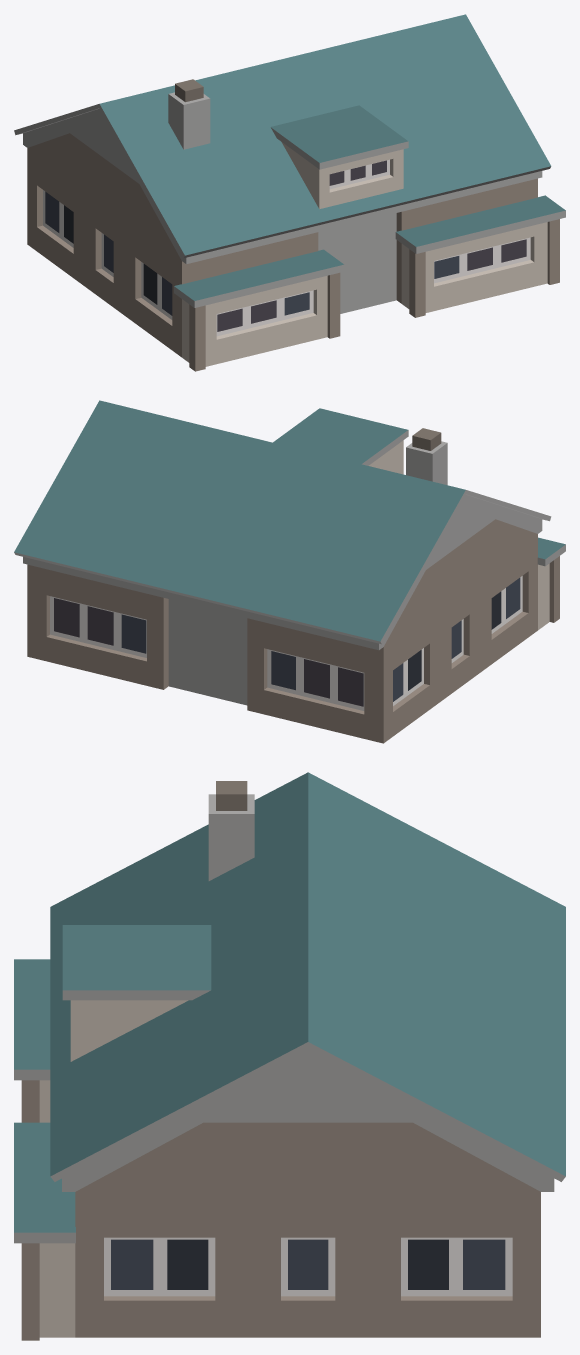
The model's file is building1_top.fbx.
3 renders of one model, top to bottom at view 1: azimuth 30°, elevation 25°; view 2: azimuth 150°, elevation 25°; view 3: azimuth 270°, elevation 25°, orthographic. The views are drawn at different scales.
Parts seen in each view (by area): view 1: building1_top; view 2: building1_top; view 3: building1_top.
Part boxes in pixels (box(x1,y1,x2,y2)): building1_top: box(14, 14, 565, 371); building1_top: box(14, 400, 565, 743); building1_top: box(14, 772, 565, 1340).
Size of the model in its own units: 901 by 509 by 769.
